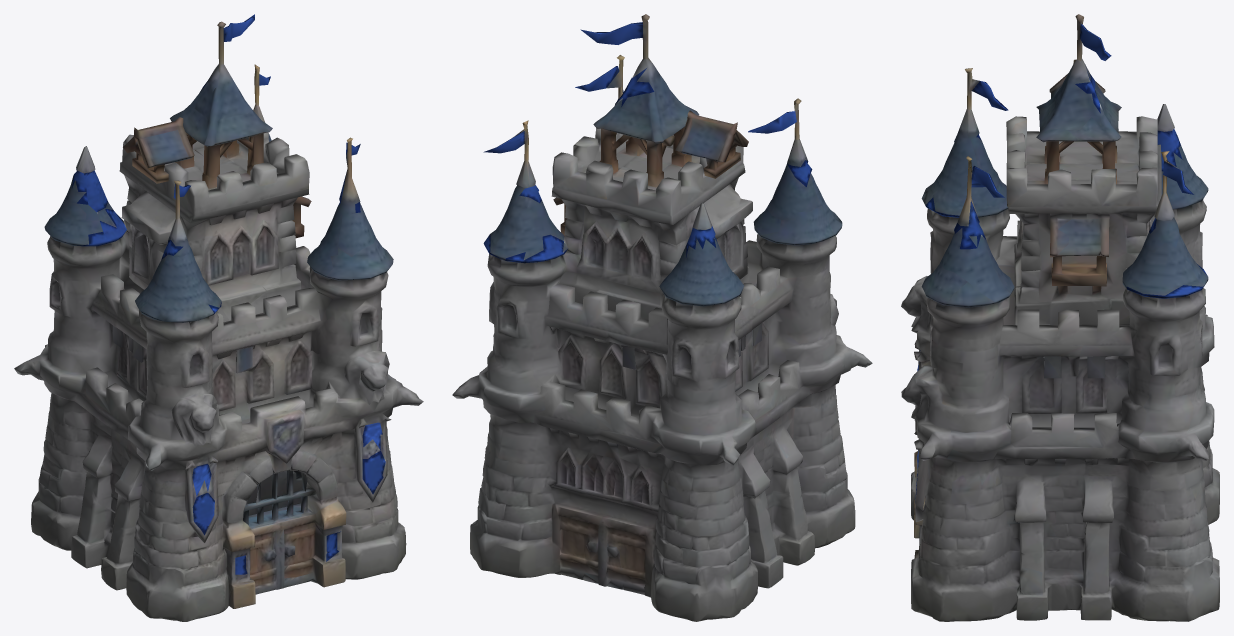
The model's file is hq_human_3.glb.
The picture shows the model from 3 angles, left to right: view 1: azimuth 30°, elevation 25°; view 2: azimuth 150°, elevation 25°; view 3: azimuth 270°, elevation 25°; orthographic projection. The views are drawn at different scales.
Visible parts, largest first — view 1: Static_Mesh; view 2: Static_Mesh; view 3: Static_Mesh.
Boxes of the visible parts, x1,y1,x2,y2 form: Static_Mesh: (14,14,423,621); Static_Mesh: (452,14,872,621); Static_Mesh: (901,14,1219,621).
Bounding box in the file's own units: 8.63 × 15.5 × 8.19.
Materials: 2 (2 with a texture image).
